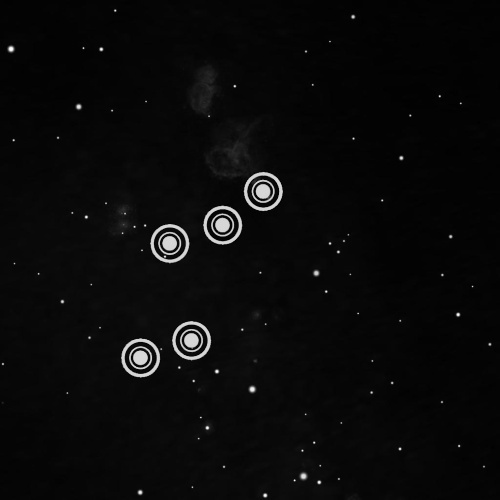lyra: (114, 154, 295, 386)
